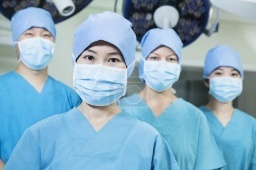correctlyWear: (72, 40, 127, 107), (11, 24, 55, 70), (141, 49, 180, 91), (205, 63, 242, 103)
